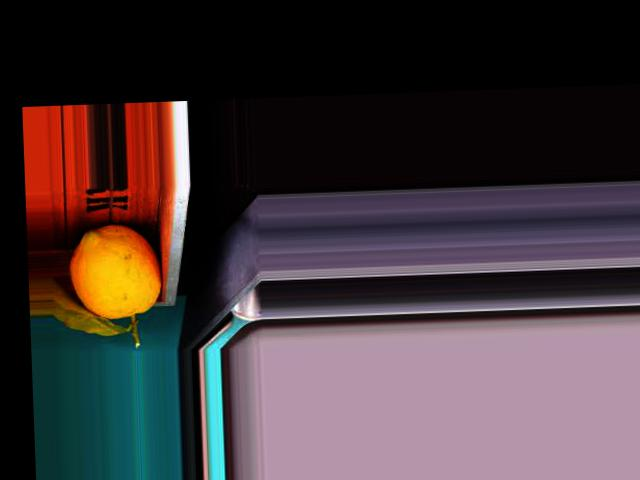lemon: (65, 222, 168, 325)
